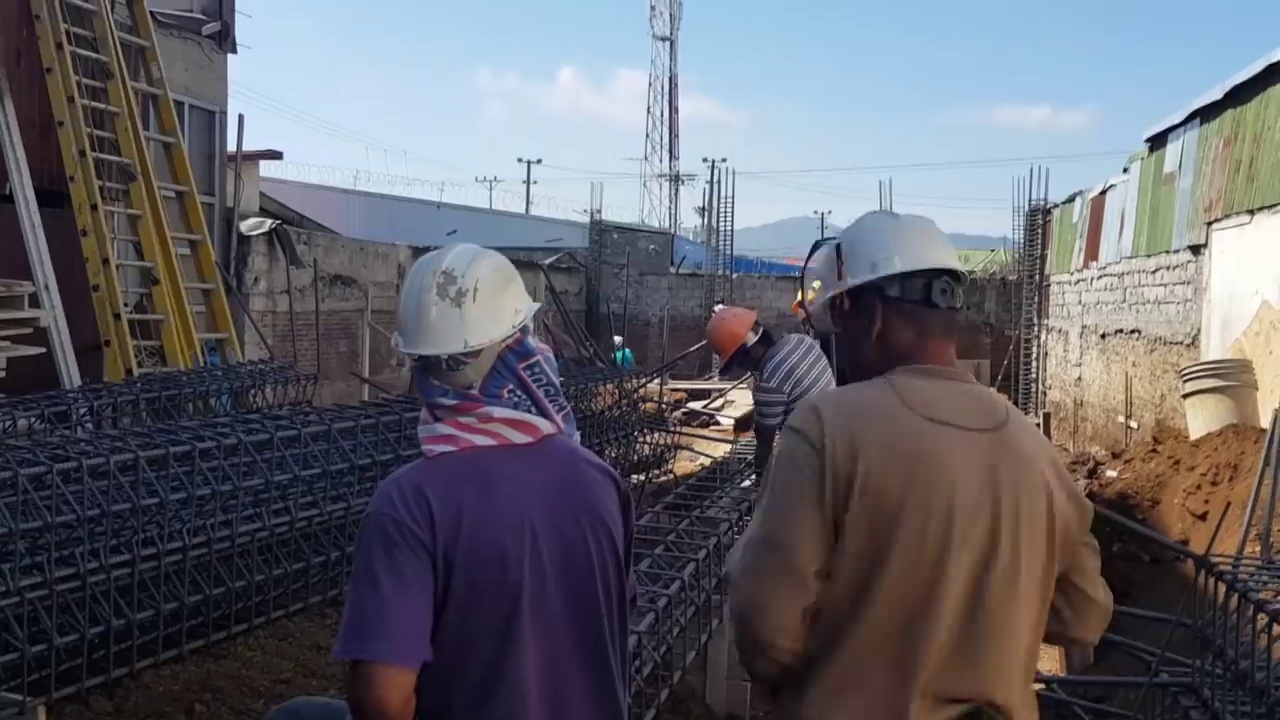helmet: (384, 241, 535, 360), (809, 213, 983, 311), (708, 303, 757, 376)
helmet-on: (384, 233, 541, 444), (808, 212, 982, 383), (707, 298, 788, 380)
person: (717, 215, 1102, 720), (336, 231, 638, 719), (706, 301, 840, 490), (612, 336, 636, 378)
